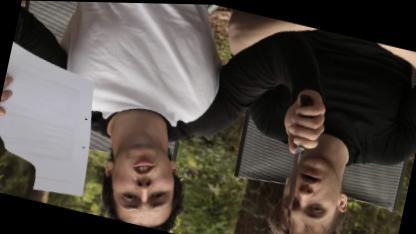knife: (267, 106, 316, 229)
